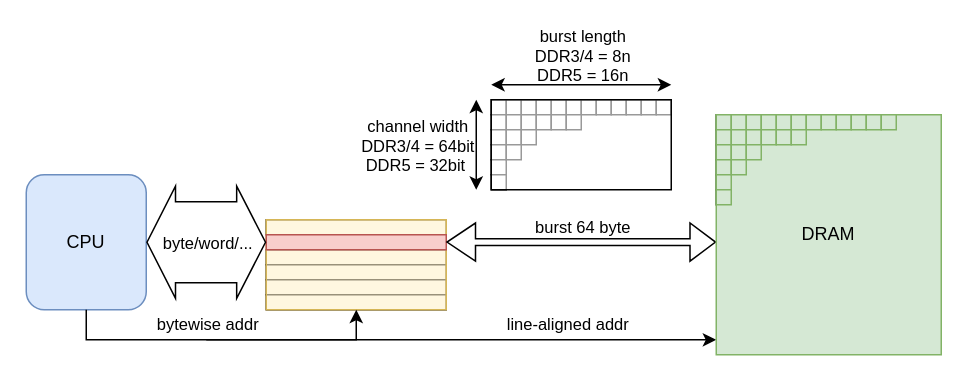
This 968x381 diagram has some shape labels left out. Here are the shapes that lost their labels. From the top down, the centre of each, then its label:
At (x=580, y=144): "burst".
At (x=355, y=264): "cache line 64 byte".
